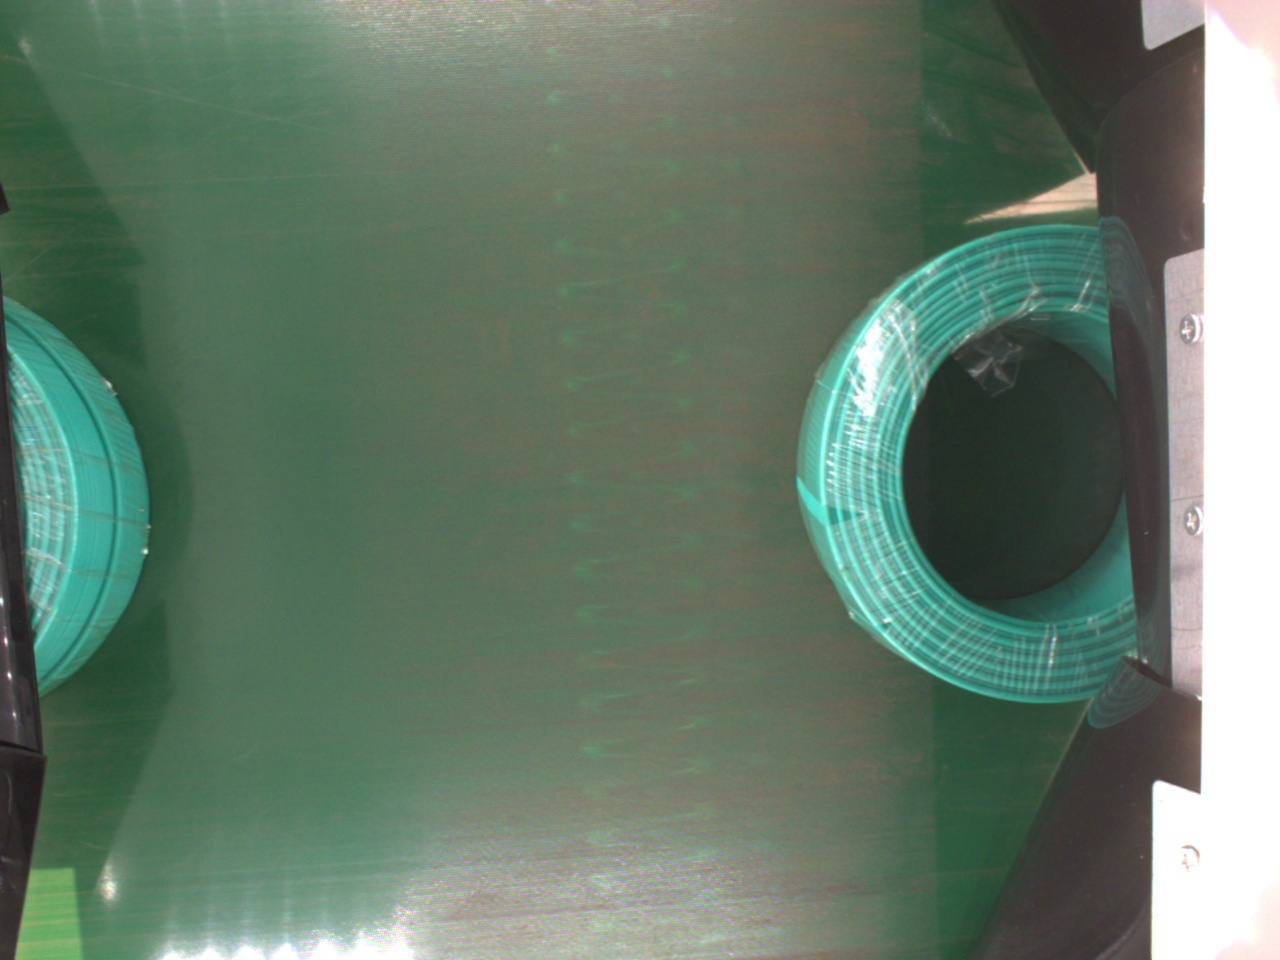green: (795, 220, 1134, 703), (0, 295, 151, 689)
